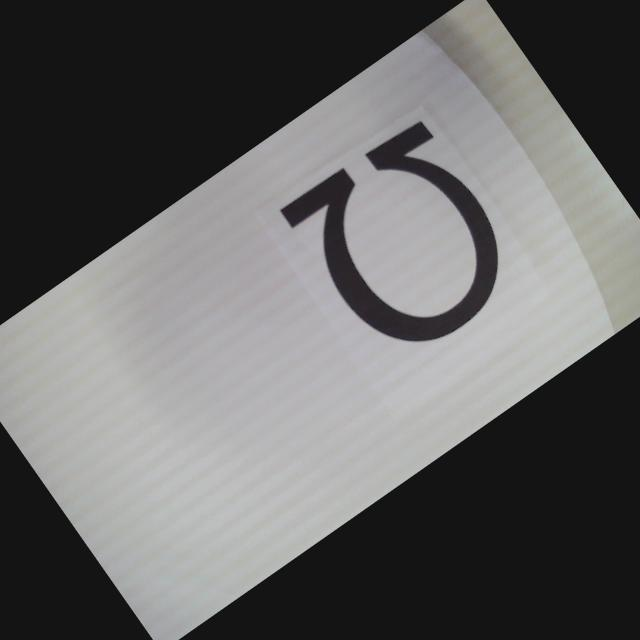OMEGA: (278, 111, 532, 374)
